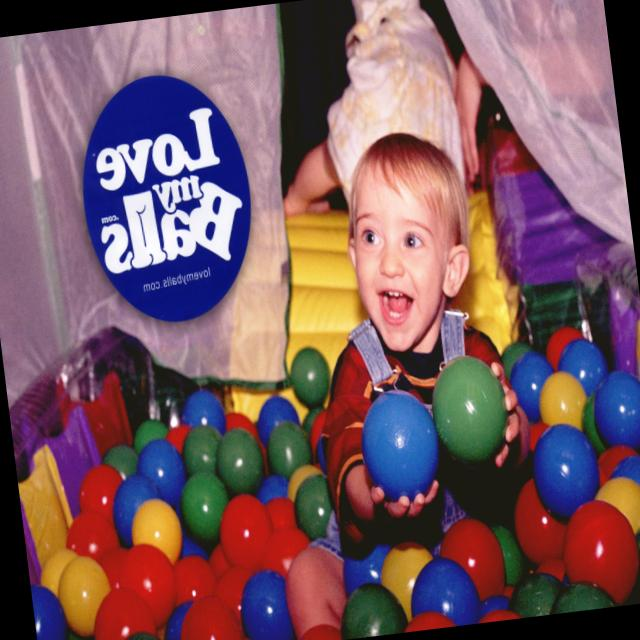Ball: (5, 306, 640, 640)
